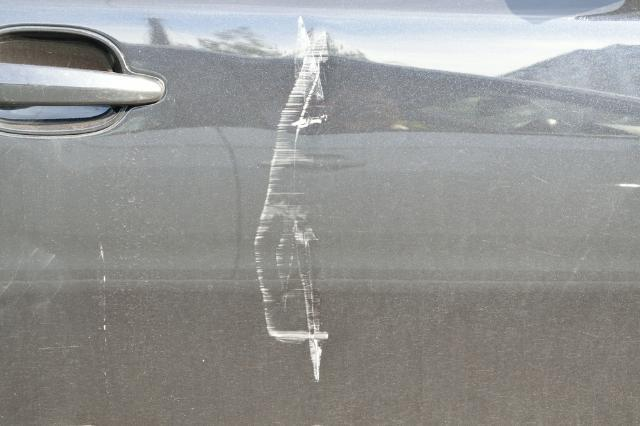scratch: (248, 16, 337, 382)
